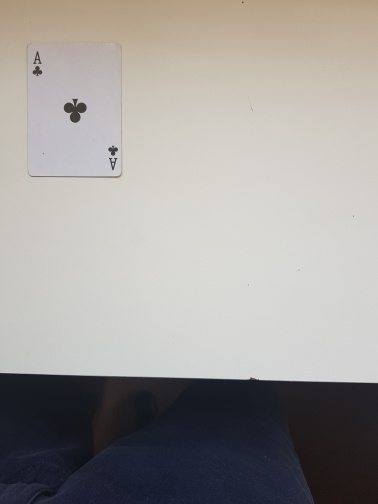ace: (24, 40, 124, 179)
